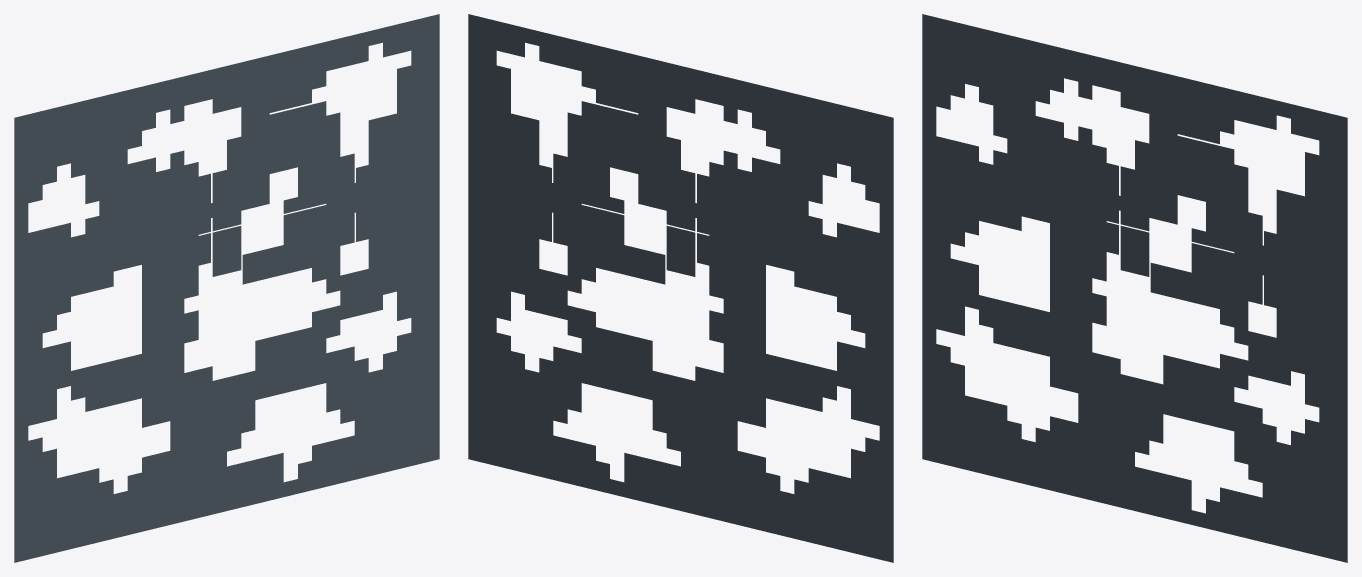
Rendered from LevelBackground.fbx.
The picture shows the model from 3 angles, left to right: view 1: azimuth 30°, elevation 25°; view 2: azimuth 150°, elevation 25°; view 3: azimuth 330°, elevation 25°; orthographic projection.
Parts seen in each view (by area): view 1: pPlane2; view 2: pPlane2; view 3: pPlane2.
Boxes of the visible parts, <box> form: pPlane2: <box>14,14,439,562</box>; pPlane2: <box>468,14,893,562</box>; pPlane2: <box>922,14,1347,562</box>.
Size of the model in its own units: 1000 by 1000 by 1.53e-05.
